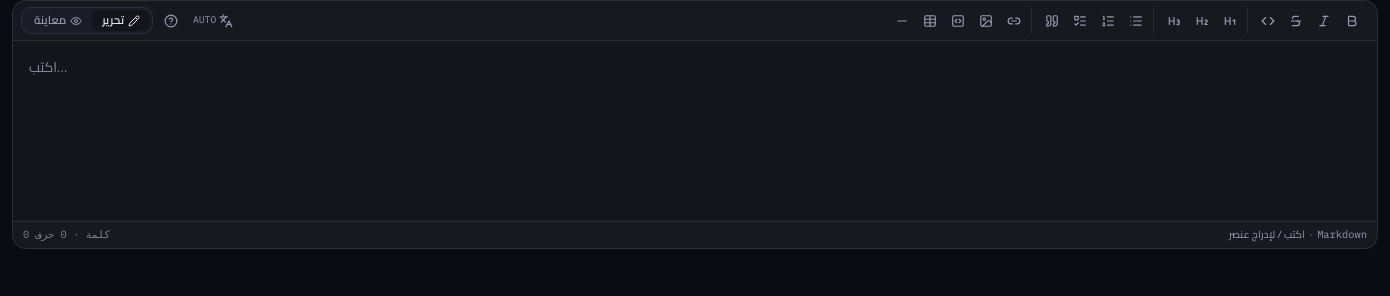
it: MarkdownEditor › filters the slash menu, in Arabic or in English
The width and height of the screenshot is (1390, 296).
Step 1. Type "/table" into the text box named "الوصف" → (695, 131), box [13, 41, 1377, 221]
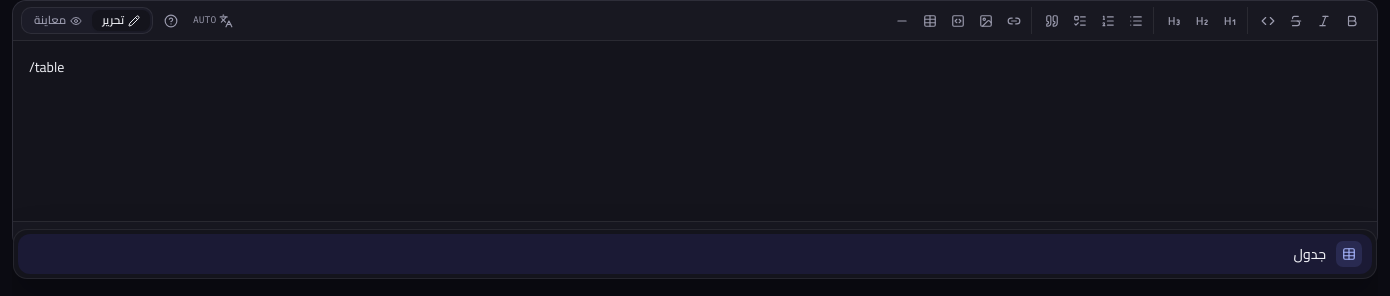
Expected: the number of options is 1, [18, 234, 1372, 274]
